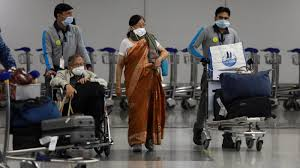mask: (125, 14, 145, 38), (211, 5, 229, 31), (55, 4, 75, 27), (69, 54, 84, 77)
